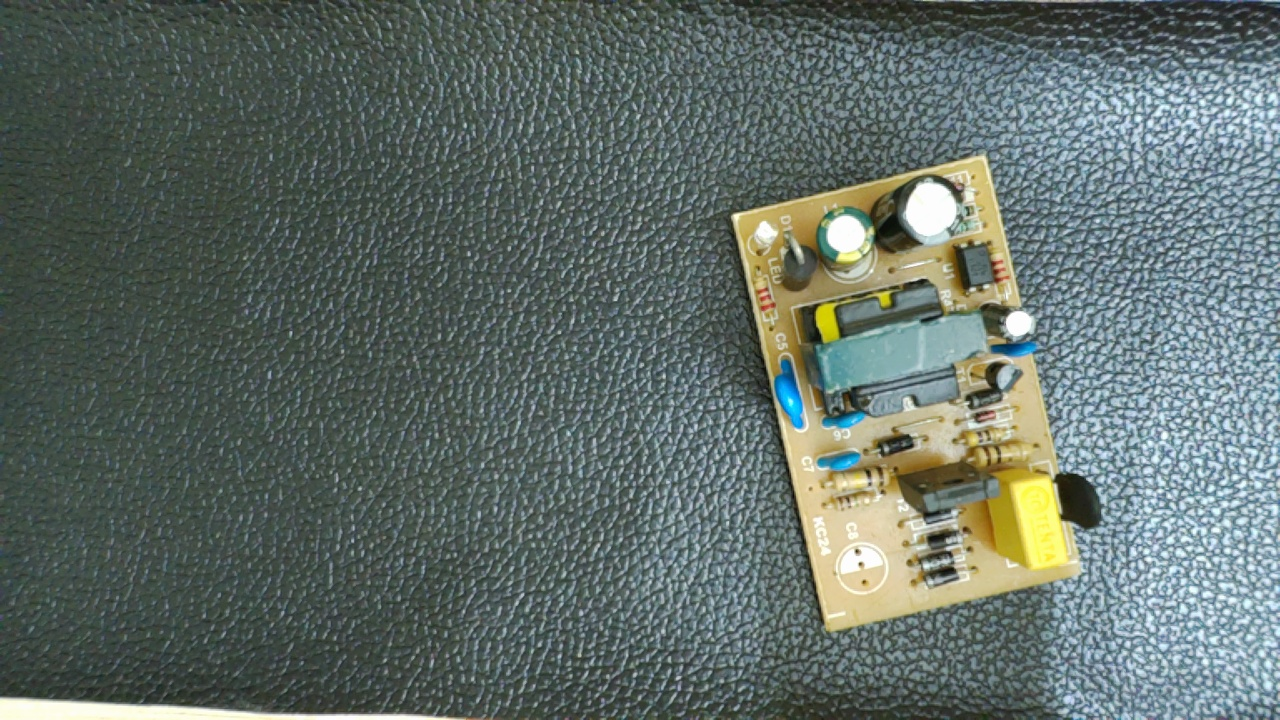fuse: (1047, 467, 1106, 534)
mov: (765, 353, 810, 432)
optocoupler: (948, 234, 1001, 299)
